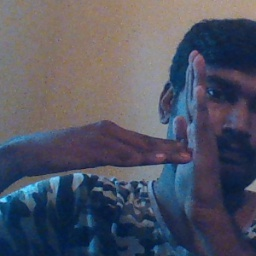Z: (111, 43, 225, 223)
